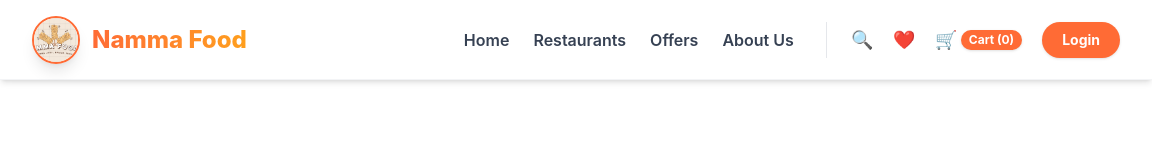
Test case: Header Component › should change button text to logout on click
Click the button with test id "login-btn".
click(1081, 40)  # box [1042,22,1120,58]
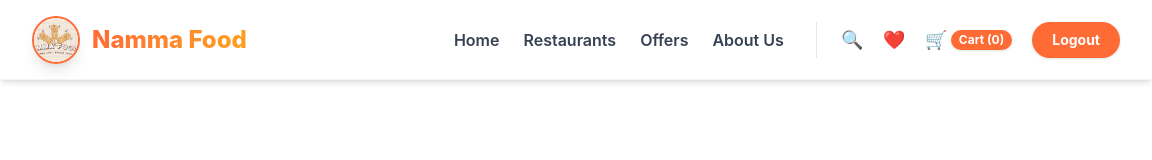
Check: the button with test id "login-btn" reads "Logout"
Click the button with test id "login-btn".
click(1076, 40)  # box [1032,22,1120,58]
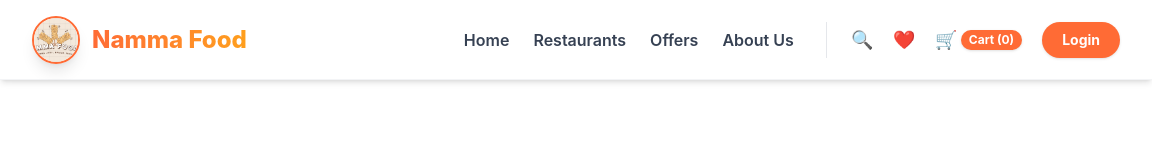
Check: the button with test id "login-btn" reads "Login", box [1042,22,1120,58]
